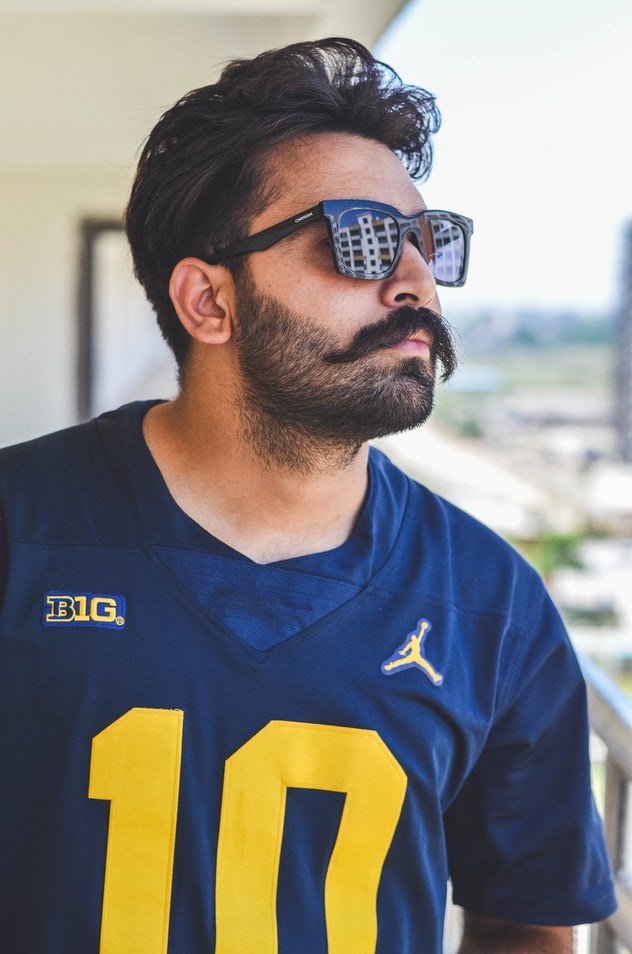beard: (229, 294, 450, 440)
glasses: (250, 201, 488, 297)
